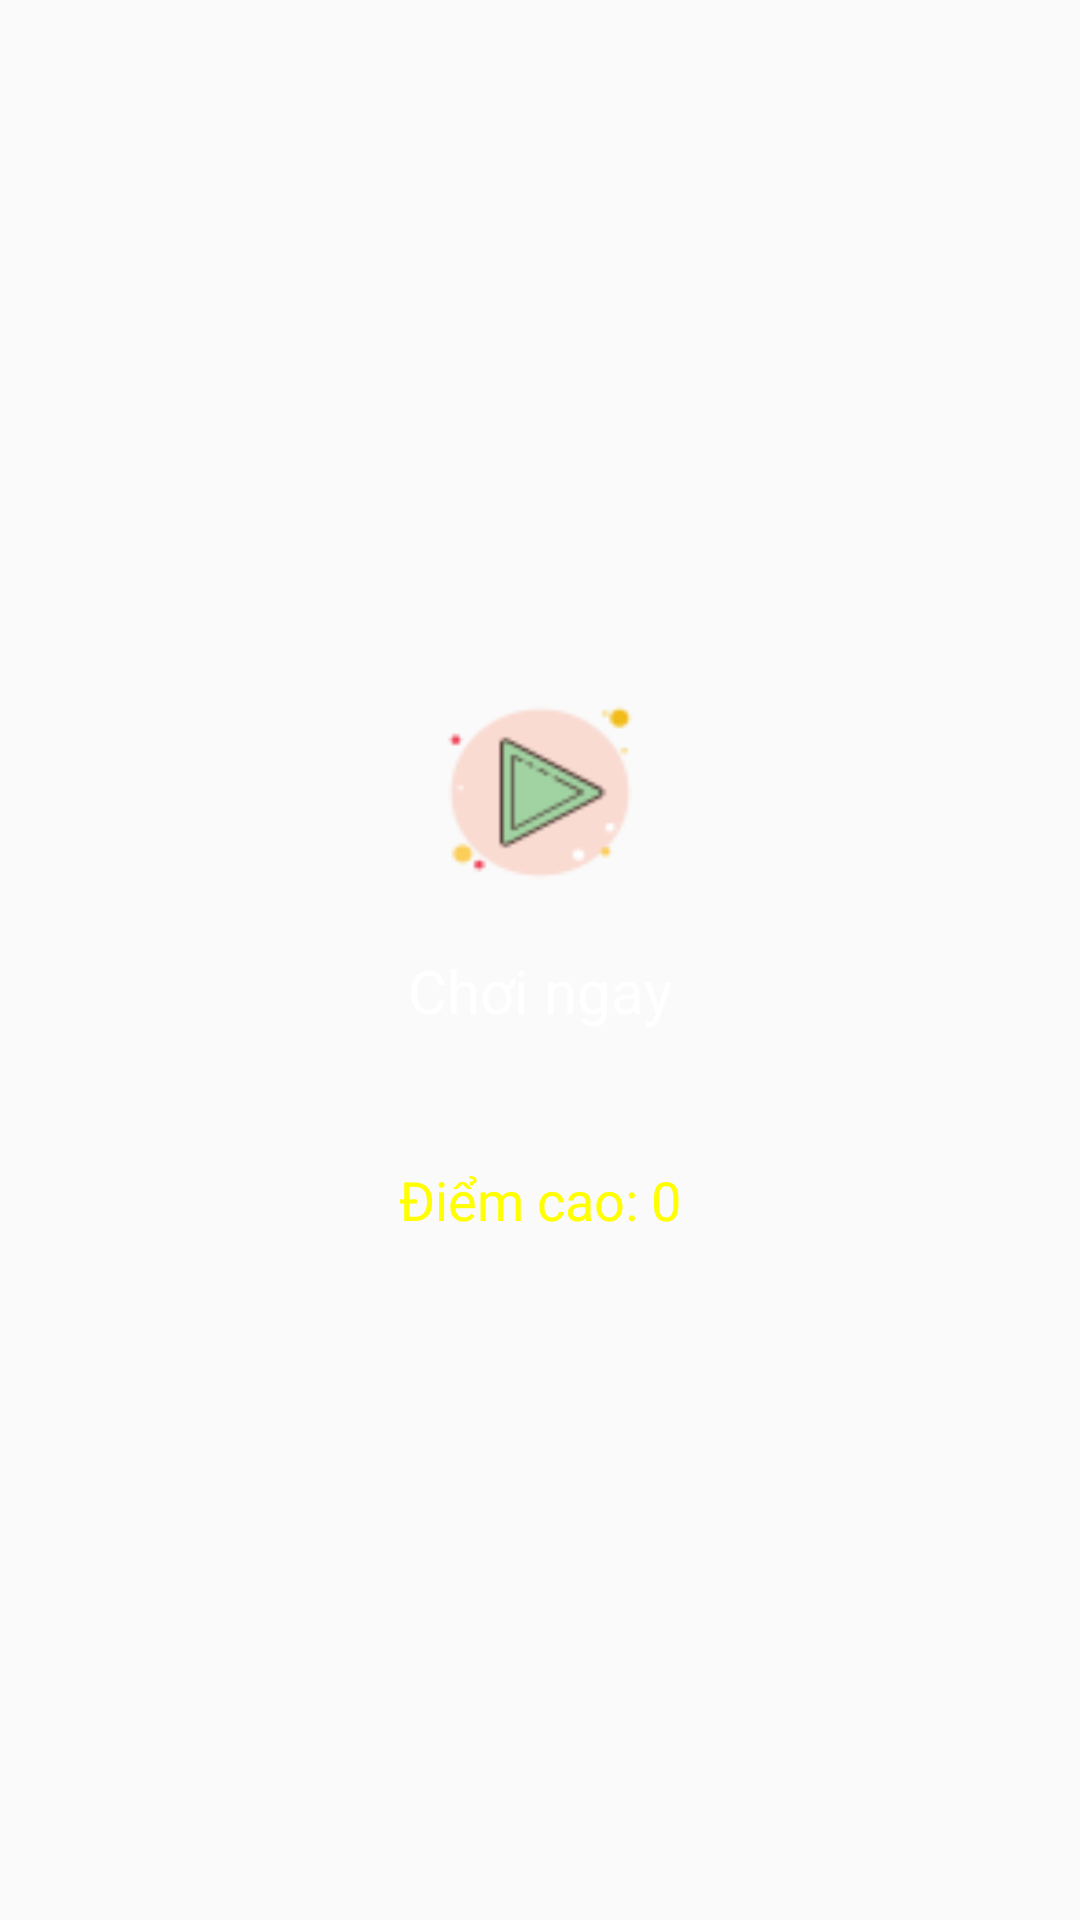

Named icons in this screenshot (1080*1920) and their centers, (x=x, y=y):
Nút bắt đầu: (x=540, y=791)
